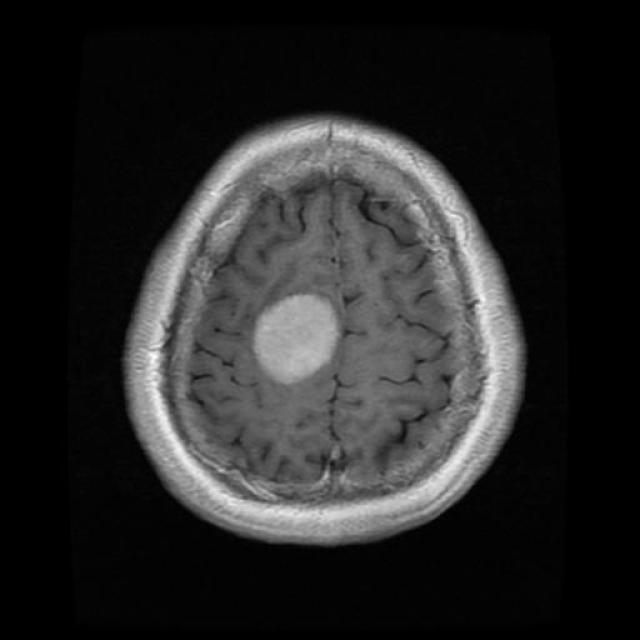meningioma: (252, 292, 344, 388)
